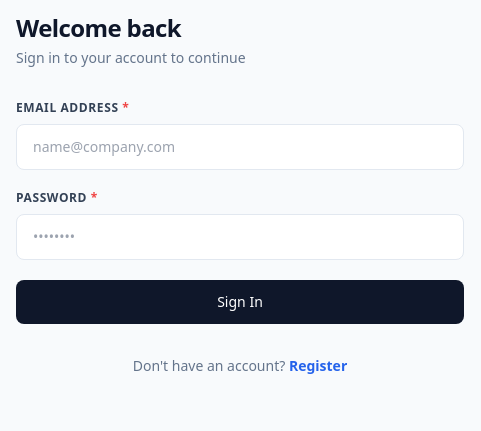
Test: LoginPage › displays field validation errors with accessible aria attributes when submitted empty
Click the button "Sign In". click: (240, 302)
box: [16,280,464,324]
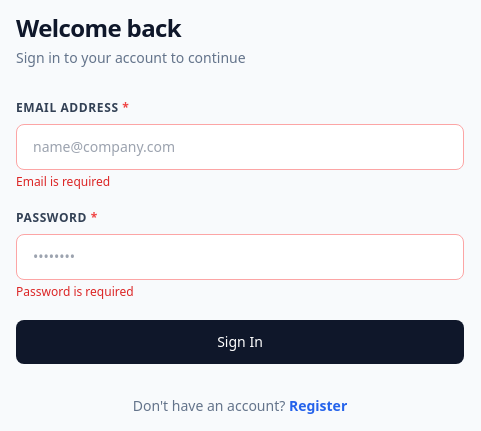
Result: the text "Email is required" is shown at [16,173,110,190]
Result: the text "Password is required" is shown at [16,283,134,300]
